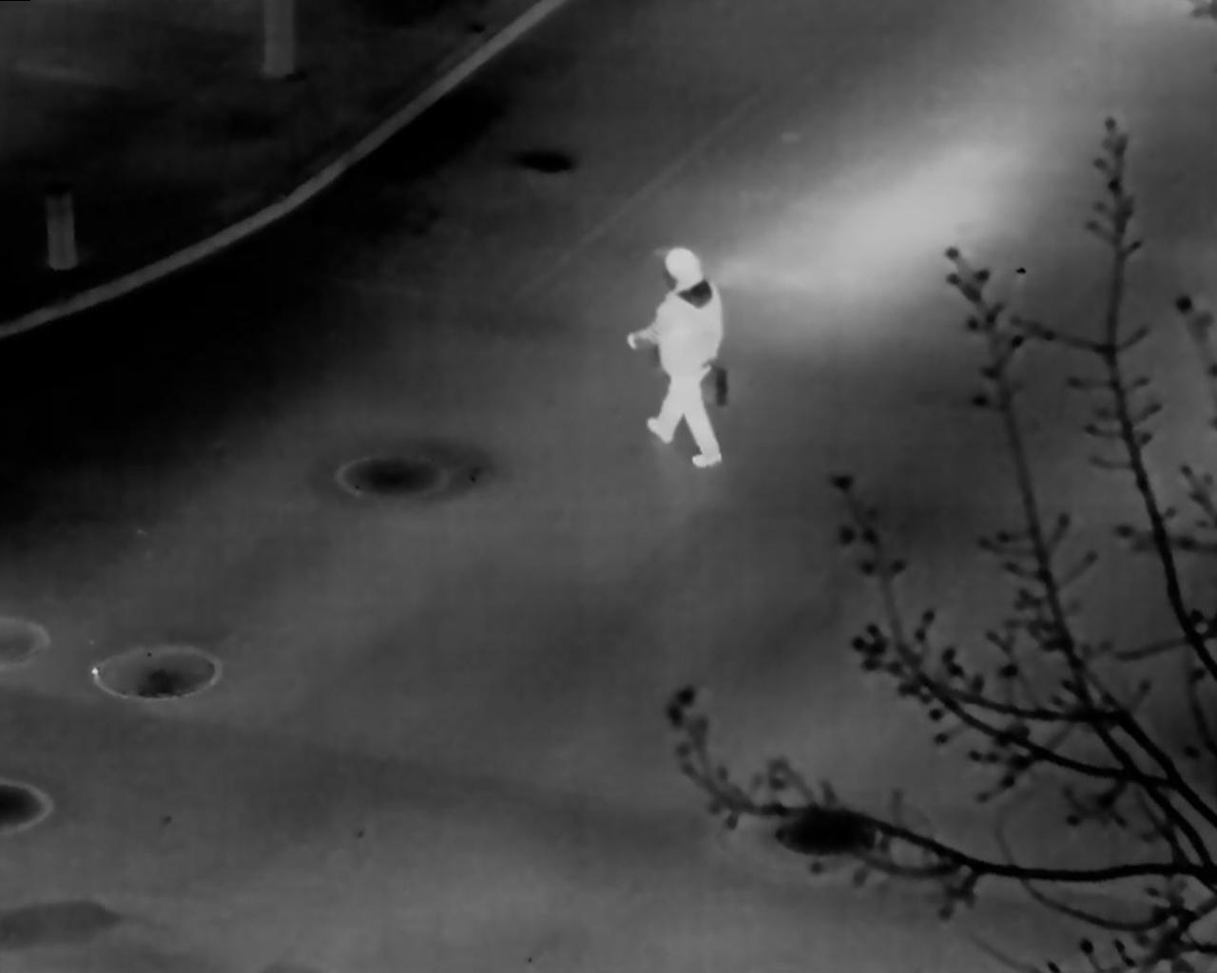person: (624, 245, 729, 467)
